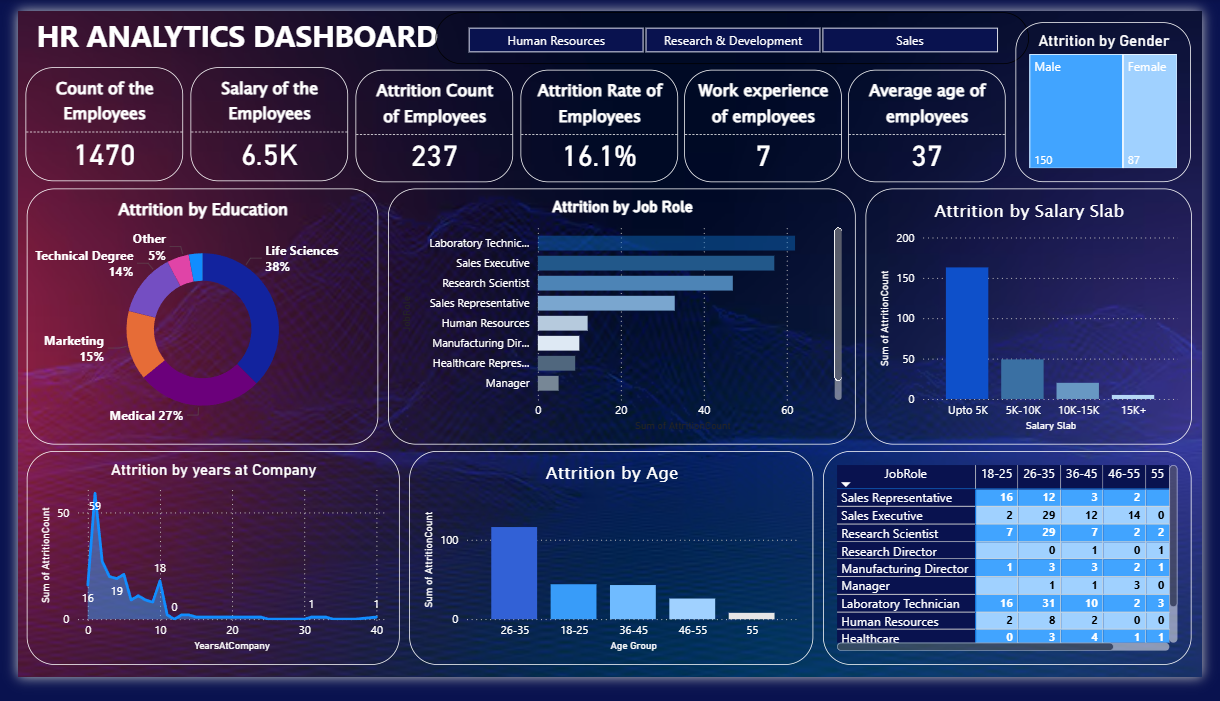

Layout of this report page (visuals, bound fields, positions):
{"tool":"powerbi","page":{"name":"Page 1","canvas":[1280,720],"ordinal":0},"visuals":[{"type":"card","title":"Count of the Employees","fields":{"Values":["CountNonNull(HR-Employee-Attrition.EmployeeNumber)"]},"box":[8.6,61.4,170,122.9],"z":0},{"type":"card","title":"Attrition Rate of Employees","fields":{"Values":["HR-Employee-Attrition.Attrition Rate"]},"box":[542.9,62.9,170,121.4],"z":1000},{"type":"card","title":"Attrition Count of Employees","fields":{"Values":["Sum(HR-Employee-Attrition.AttritionCount)"]},"box":[364.3,62.9,170,121.4],"z":2000},{"type":"card","title":"Work experience of employees","fields":{"Values":["Avg(HR-Employee-Attrition.YearsAtCompany)"]},"box":[720,62.9,170,121.4],"z":3000},{"type":"card","title":"Average age of employees","fields":{"Values":["Avg(HR-Employee-Attrition.Age)"]},"box":[897.1,62.9,170,121.4],"z":4000},{"type":"card","title":"Salary of the Employees","fields":{"Values":["Avg(HR-Employee-Attrition.MonthlyIncome)"]},"box":[187.1,61.4,170,122.9],"z":5000},{"type":"donutChart","title":"Attrition by Education","fields":{"Category":["HR-Employee-Attrition.EducationField"],"Y":["Sum(HR-Employee-Attrition.AttritionCount)"]},"box":[10,191.4,380,277.1],"z":6000},{"type":"textbox","box":[14.3,0,804.3,55.7],"z":7000},{"type":"slicer","fields":{"Values":["HR-Employee-Attrition.Department"]},"box":[451.4,1.4,641.4,55.7],"z":8000},{"type":"clusteredBarChart","title":"Attrition by Job Role","fields":{"Category":["HR-Employee-Attrition.JobRole"],"Y":["Sum(HR-Employee-Attrition.AttritionCount)"]},"box":[400,191.4,505.7,277.1],"z":9000},{"type":"clusteredColumnChart","title":"Attrition by Salary Slab","fields":{"Category":["HR-Employee-Attrition.Salary Slab"],"Y":["Sum(HR-Employee-Attrition.AttritionCount)"]},"box":[915.7,191.4,352.9,277.1],"z":10000},{"type":"lineChart","title":"Attrition by years at Company","fields":{"Category":["HR-Employee-Attrition.YearsAtCompany"],"Y":["Sum(HR-Employee-Attrition.AttritionCount)"]},"box":[10,475.7,402.9,231.4],"z":11000},{"type":"treemap","title":"Attrition by Gender","fields":{"Group":["HR-Employee-Attrition.Gender"],"Values":["Sum(HR-Employee-Attrition.AttritionCount)"]},"box":[1078.7,11.6,189.7,172.9],"z":12000},{"type":"pivotTable","fields":{"Rows":["HR-Employee-Attrition.JobRole"],"Values":["Sum(HR-Employee-Attrition.AttritionCount)"],"Columns":["HR-Employee-Attrition.Age Group"]},"box":[870,475.7,398.6,231.4],"z":13000},{"type":"clusteredColumnChart","title":"Attrition by Age","fields":{"Category":["HR-Employee-Attrition.Age Group"],"Y":["Sum(HR-Employee-Attrition.AttritionCount)"]},"box":[422.9,475.7,437.1,231.4],"z":14000}]}

Visuals, with their boxes in screenshot pixels (x1, y1, x2, y2), scaled from the page's 1280x720 canvas onto the 1220x701 screenshot:
"Count of the Employees" card: detection(8, 60, 170, 179)
"Attrition Rate of Employees" card: detection(517, 61, 679, 179)
"Attrition Count of Employees" card: detection(347, 61, 509, 179)
"Work experience of employees" card: detection(686, 61, 848, 179)
"Average age of employees" card: detection(855, 61, 1017, 179)
"Salary of the Employees" card: detection(178, 60, 340, 179)
"Attrition by Education" donutChart: detection(10, 186, 372, 456)
textbox: detection(14, 0, 780, 54)
slicer - HR-Employee-Attrition.Department: detection(430, 1, 1042, 56)
"Attrition by Job Role" clusteredBarChart: detection(381, 186, 863, 456)
"Attrition by Salary Slab" clusteredColumnChart: detection(873, 186, 1209, 456)
"Attrition by years at Company" lineChart: detection(10, 463, 394, 688)
"Attrition by Gender" treemap: detection(1028, 11, 1209, 180)
pivotTable - HR-Employee-Attrition.JobRole x Sum(HR-Employee-Attrition.AttritionCount): detection(829, 463, 1209, 688)
"Attrition by Age" clusteredColumnChart: detection(403, 463, 820, 688)
